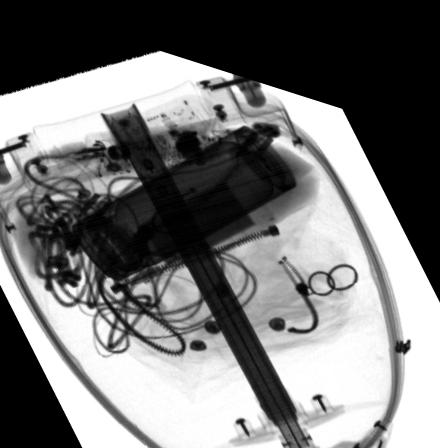Powerbank: (105, 148, 274, 275)
